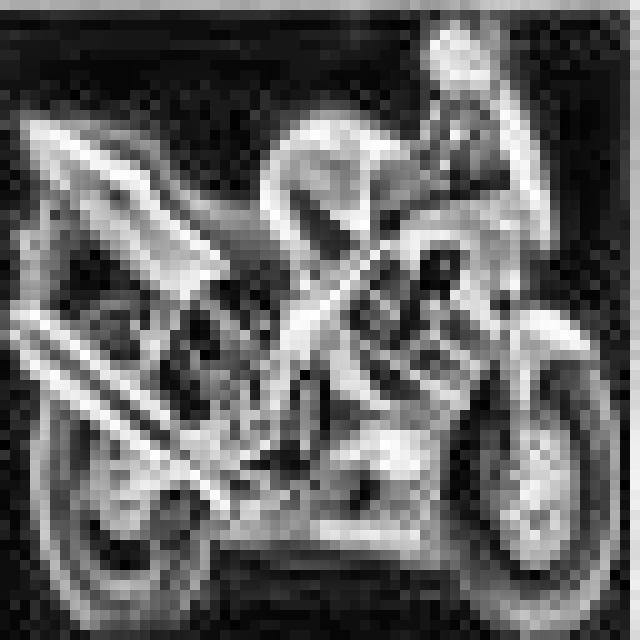mopeds: (8, 39, 634, 640)
